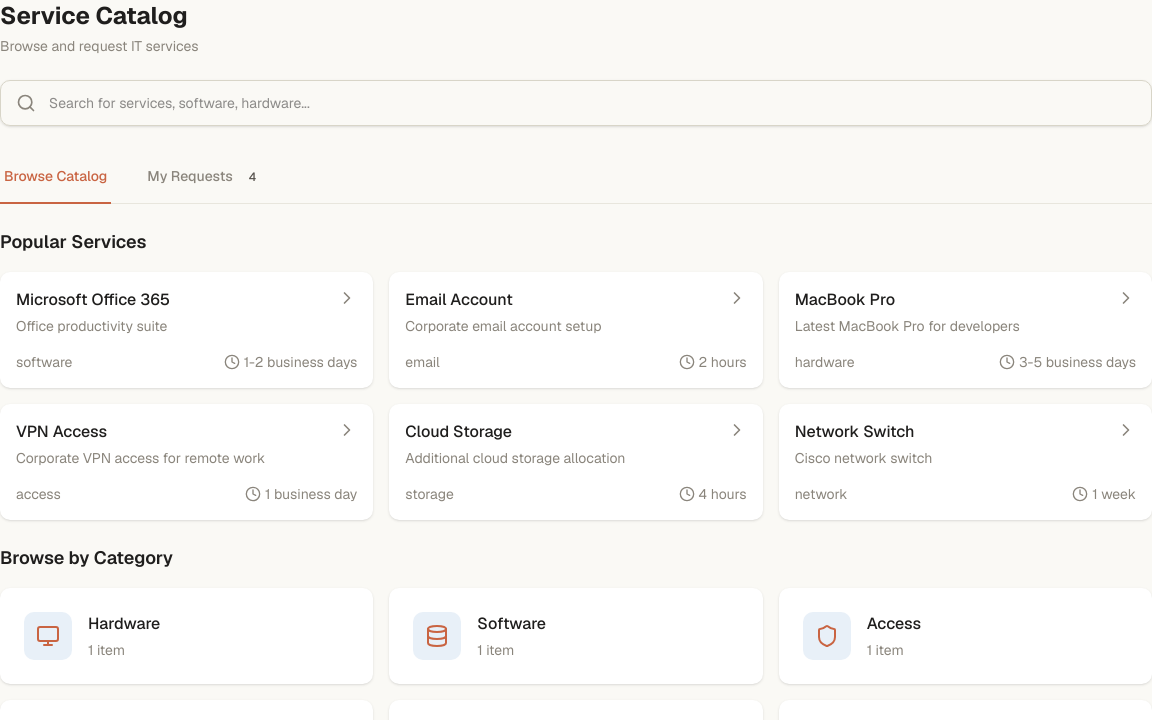
Scenario: CatalogPage › Tab Switching › switches to My Requests tab when clicked
What coordinates should you click on to do the following:
click the button "My Requests4"
I would click on:
 (206, 177)
Its box is [143,150,268,204].
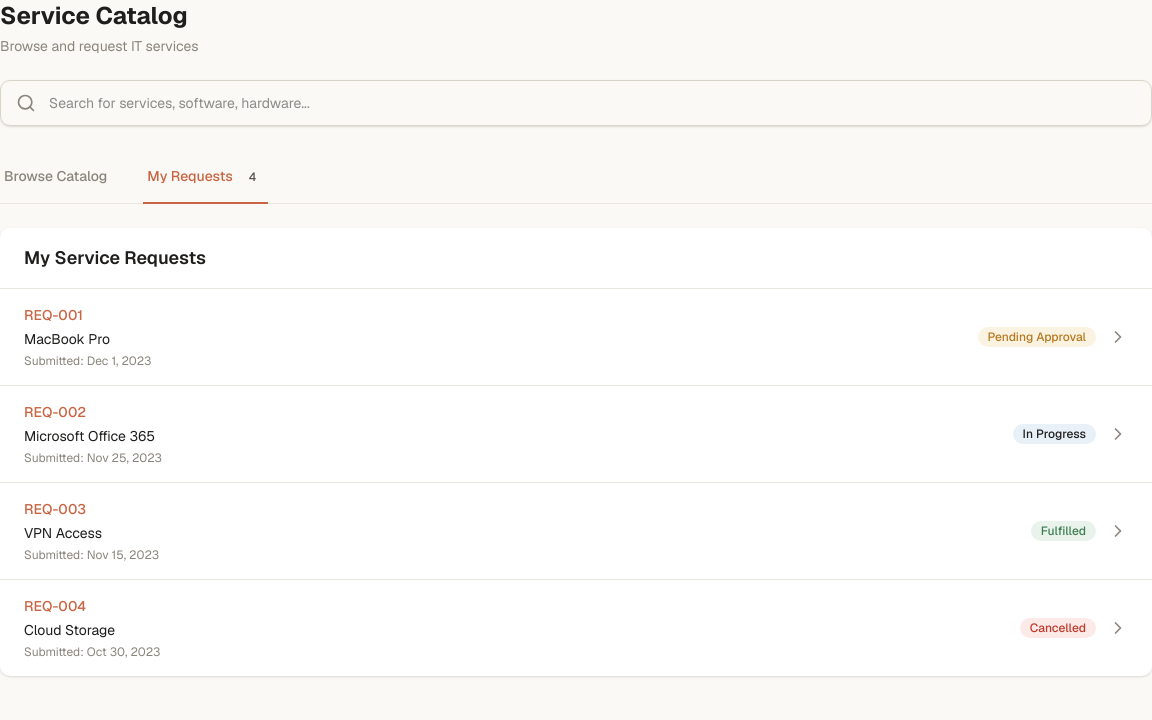
Result: the heading "My Service Requests" is shown at [24,246,206,269]
